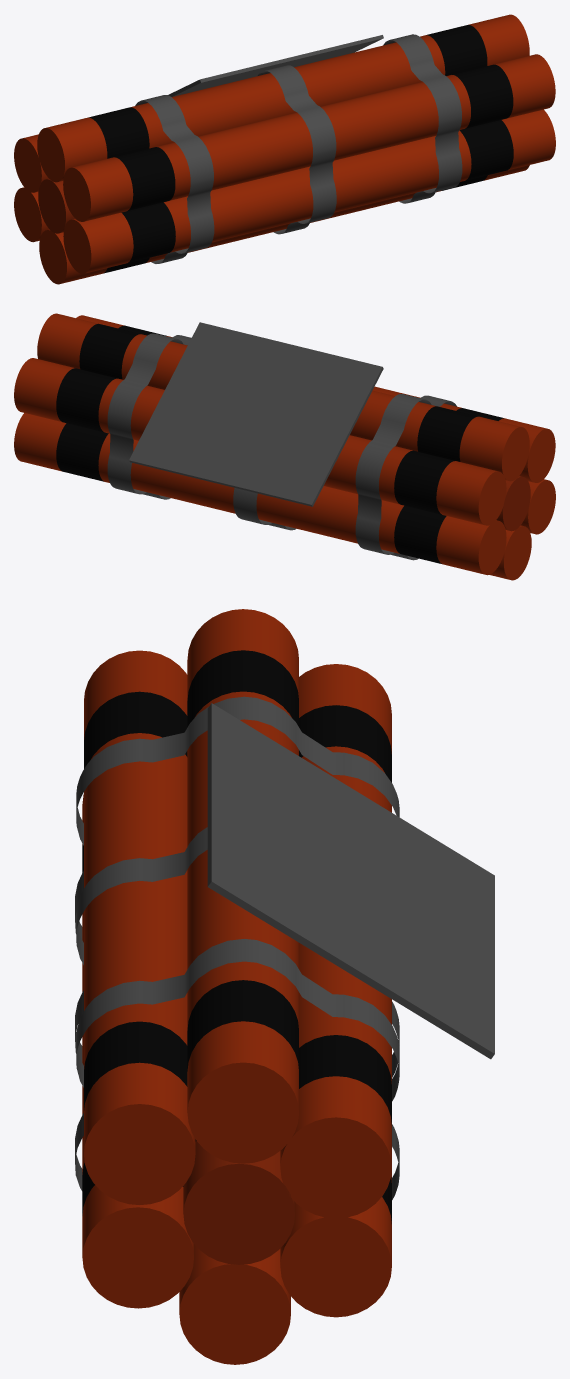
The model's file is Models for Fair project.fbx.
The picture shows the model from 3 angles, top to bottom: view 1: azimuth 30°, elevation 25°; view 2: azimuth 150°, elevation 25°; view 3: azimuth 270°, elevation 25°; orthographic projection. The views are drawn at different scales.
Parts seen in each view (by area): view 1: Cylinder.001, Cylinder.003, Cylinder.002, Plane.002, Plane.001, Plane.003, Cylinder.005, Cube.004, Cylinder.004, Cylinder.008, Cylinder.007; view 2: Cube.004, Cylinder.007, Cylinder.008, Cylinder.002, Plane.001, Plane.002, Cylinder.001, Cylinder.005, Cylinder.003, Cylinder.004, Plane.003; view 3: Cube.004, Cylinder.001, Cylinder.002, Cylinder.008, Cylinder.003, Cylinder.007, Cylinder.004, Cylinder.005, Plane.002, Plane.001, Plane.003.
Part boxes in pixels (left/top/right/bottom): Cylinder.001: left=63, top=54, right=555, bottom=221; Cylinder.003: left=63, top=109, right=555, bottom=273; Cylinder.002: left=37, top=14, right=529, bottom=182; Plane.002: left=383, top=34, right=462, bottom=203; Plane.001: left=135, top=95, right=214, bottom=263; Plane.003: left=257, top=65, right=336, bottom=234; Cylinder.005: left=39, top=165, right=529, bottom=284; Cube.004: left=168, top=35, right=383, bottom=96; Cylinder.004: left=38, top=178, right=74, bottom=233; Cylinder.008: left=14, top=134, right=48, bottom=192; Cylinder.007: left=14, top=187, right=49, bottom=242; Cube.004: left=129, top=322, right=383, bottom=506; Cylinder.007: left=14, top=413, right=506, bottom=575; Cylinder.008: left=14, top=358, right=506, bottom=525; Cylinder.002: left=37, top=313, right=529, bottom=481; Plane.001: left=355, top=394, right=456, bottom=560; Plane.002: left=107, top=333, right=191, bottom=499; Cylinder.001: left=76, top=315, right=555, bottom=482; Cylinder.005: left=489, top=525, right=531, bottom=580; Cylinder.003: left=521, top=479, right=555, bottom=534; Cylinder.004: left=496, top=476, right=530, bottom=531; Plane.003: left=233, top=488, right=296, bottom=530; Cube.004: left=207, top=703, right=494, bottom=1059; Cylinder.001: left=84, top=650, right=195, bottom=1204; Cylinder.002: left=187, top=609, right=298, bottom=1163; Cylinder.008: left=280, top=664, right=391, bottom=1217; Cylinder.003: left=82, top=794, right=193, bottom=1308; Cylinder.007: left=280, top=1169, right=391, bottom=1317; Cylinder.004: left=183, top=1139, right=294, bottom=1264; Cylinder.005: left=179, top=1244, right=290, bottom=1364; Plane.002: left=75, top=939, right=399, bottom=1199; Plane.001: left=75, top=696, right=399, bottom=939; Plane.003: left=75, top=827, right=399, bottom=1077.
Bounding box in the file's own units: 122 × 44.34 × 47.84.
